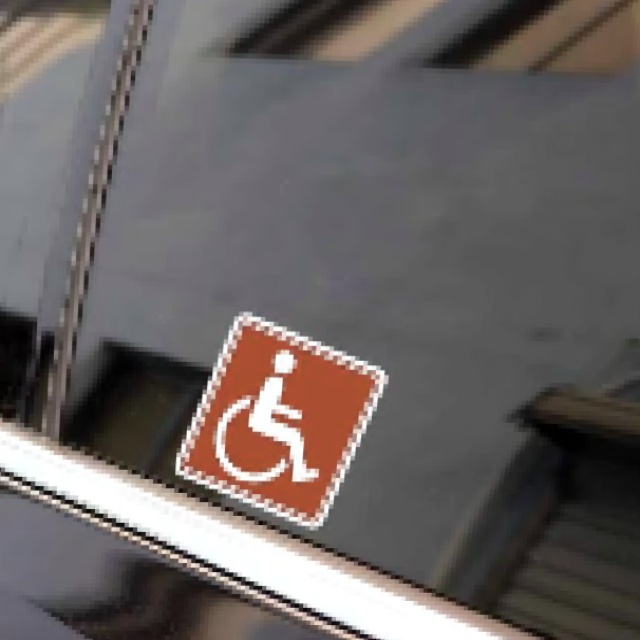ISA: (210, 338, 333, 483)
